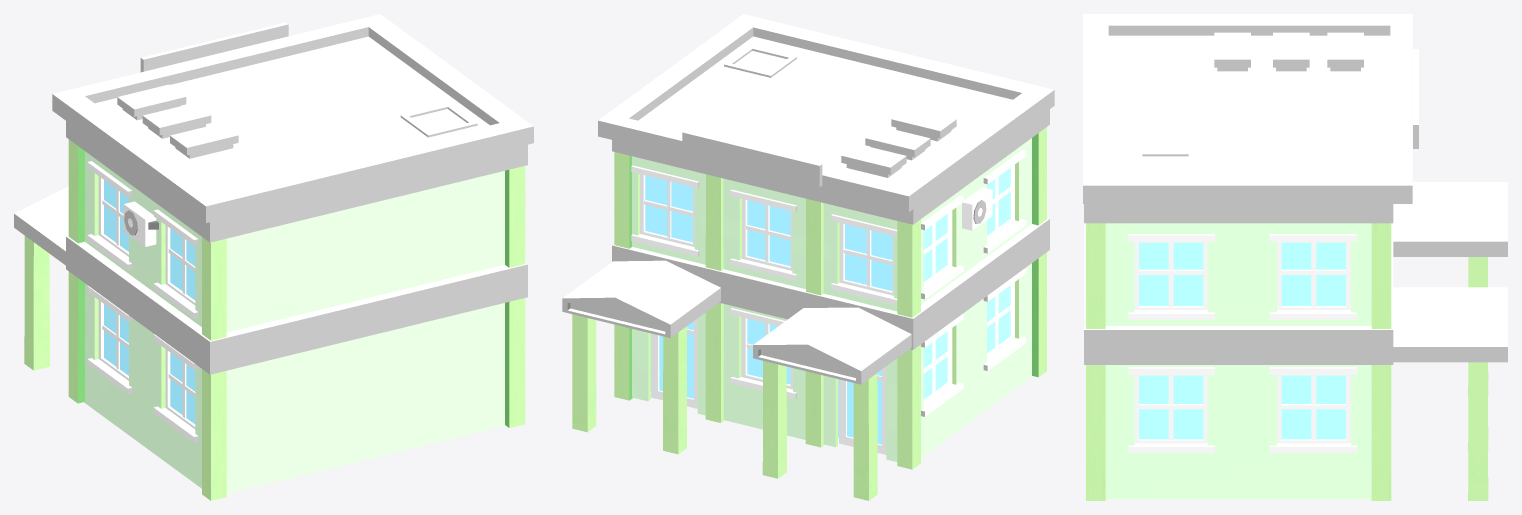
Rendered from bank.009.glb.
3 views of the same model, side by side, from view 1: azimuth 30°, elevation 25°; view 2: azimuth 150°, elevation 25°; view 3: azimuth 270°, elevation 25° (orthographic). The views are drawn at different scales.
Parts seen in each view (by area): view 1: bank.009(Clone); view 2: bank.009(Clone); view 3: bank.009(Clone).
Part boxes in pixels (bbox=[...]): bank.009(Clone): bbox=[14, 14, 533, 500]; bank.009(Clone): bbox=[562, 14, 1054, 500]; bank.009(Clone): bbox=[1083, 14, 1507, 500].
Size of the model in its own units: 7.15 by 6.46 by 7.47.
Materials: 1 (1 with a texture image).
